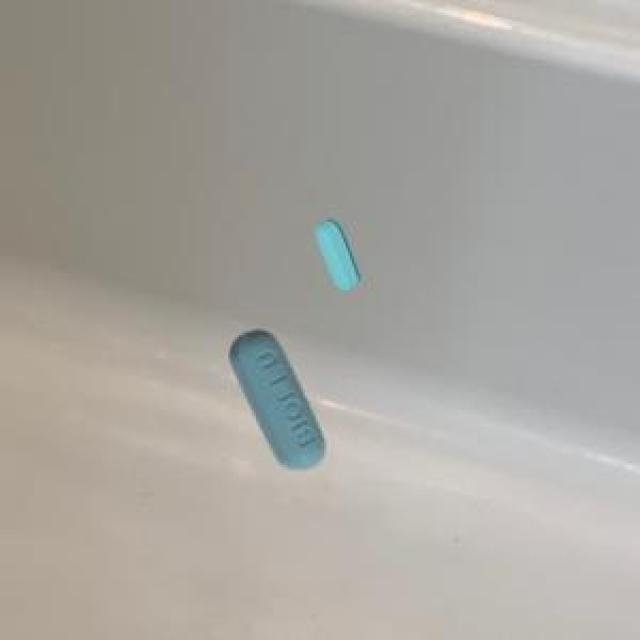Bioflu: (205, 320, 342, 488), (307, 211, 371, 302)
